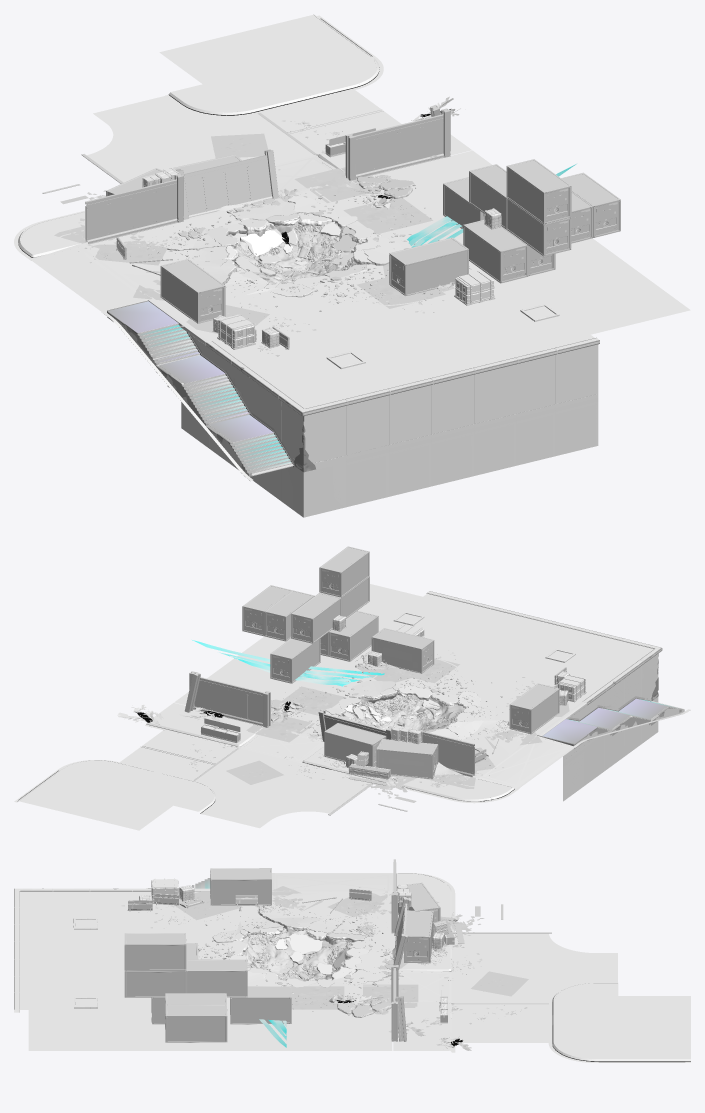
The model's file is cell_169_118.fbx.
The picture shows the model from 3 angles, top to bottom: view 1: azimuth 30°, elevation 25°; view 2: azimuth 150°, elevation 25°; view 3: azimuth 270°, elevation 25°; orthographic projection. The views are drawn at different scales.
Parts seen in each view (by area): view 1: SM_I_RoadFacility_Ground_C_02G.mo, SM_I_RoadFacility_Ground_C_02C.mo, SM_H_Fence_SoundproofWall_02.mo.093, SM_H_Fence_SoundproofWall_02.mo.104, SM_H_Fence_SoundproofWall_02.mo.094, SM_H_Industrial_Container_02.mo.220, SM_H_Industrial_Container_02.mo.230, SM_H_Industrial_Container_02.mo.200, SM_H_Industrial_Container_02.mo.229, SM_I_RoadFacility_Ground_C_02I.mo, SM_H_Industrial_Container_02.mo.222, SM_I_RoadFacility_Ground_C_02H.mo (+12 smaller); view 2: SM_I_RoadFacility_Ground_C_02G.mo, SM_I_RoadFacility_Ground_C_02C.mo, SM_H_Fence_SoundproofWall_02.mo.104, SM_H_Industrial_Container_02.mo.220, SM_H_Industrial_Container_02.mo.200, SM_H_Industrial_Container_02.mo.230, SM_H_Industrial_Container_02.mo.135, SM_H_Industrial_Container_02.mo.227, SM_H_Industrial_Container_02.mo.229, SM_H_Industrial_Container_02.mo.232, SM_H_Industrial_Container_02.mo.130, SpaceCenter_Long3_GenerateRoad_Sand_TireTracks_Narrow_Mesh_x (+14 smaller); view 3: SM_I_RoadFacility_Ground_C_02G.mo, SM_I_RoadFacility_Ground_C_02C.mo, SM_H_Industrial_Container_02.mo.225, SM_H_Industrial_Container_02.mo.220, SM_H_Industrial_Container_02.mo.232, SM_H_Industrial_Container_02.mo.227, SM_H_Industrial_Container_02.mo.200, SM_I_RoadFacility_Ground_C_02H.mo, SM_H_Industrial_Container_02.mo.130, SM_H_Industrial_Container_02.mo.222, SM_I_RoadFacility_Ground_C_02I.mo, SM_DECOR_GrassDebris_Less_01_HD.mo.1306 (+16 smaller).
Part boxes in pixels (x1,y1,x2,y2): SM_I_RoadFacility_Ground_C_02G.mo: (18, 14, 690, 517); SM_I_RoadFacility_Ground_C_02C.mo: (14, 15, 689, 480); SM_H_Fence_SoundproofWall_02.mo.093: (85, 173, 183, 244); SM_H_Fence_SoundproofWall_02.mo.104: (355, 108, 450, 178); SM_H_Fence_SoundproofWall_02.mo.094: (184, 149, 278, 217); SM_H_Industrial_Container_02.mo.220: (506, 159, 571, 224); SM_H_Industrial_Container_02.mo.230: (389, 237, 468, 296); SM_H_Industrial_Container_02.mo.200: (160, 259, 225, 323); SM_H_Industrial_Container_02.mo.229: (463, 219, 528, 283); SM_I_RoadFacility_Ground_C_02I.mo: (233, 221, 356, 281); SM_H_Industrial_Container_02.mo.222: (506, 198, 571, 256); SM_I_RoadFacility_Ground_C_02H.mo: (231, 223, 352, 284); SM_I_RoadFacility_Ground_C_02G.mo: (17, 584, 690, 830); SM_I_RoadFacility_Ground_C_02C.mo: (14, 584, 690, 827); SM_H_Fence_SoundproofWall_02.mo.104: (189, 671, 263, 726); SM_H_Industrial_Container_02.mo.220: (319, 546, 369, 597); SM_H_Industrial_Container_02.mo.200: (509, 683, 559, 734); SM_H_Industrial_Container_02.mo.230: (371, 628, 434, 673); SM_H_Industrial_Container_02.mo.135: (376, 739, 438, 779); SM_H_Industrial_Container_02.mo.227: (291, 592, 341, 643); SM_H_Industrial_Container_02.mo.229: (328, 611, 378, 661); SM_H_Industrial_Container_02.mo.232: (270, 638, 320, 683); SM_H_Industrial_Container_02.mo.130: (324, 723, 386, 767); SpaceCenter_Long3_GenerateRoad_Sand_TireTracks_Narrow_Mesh_x: (192, 640, 384, 686); SM_I_RoadFacility_Ground_C_02G.mo: (14, 873, 690, 1061); SM_I_RoadFacility_Ground_C_02C.mo: (14, 873, 690, 1062); SM_H_Industrial_Container_02.mo.225: (165, 1004, 227, 1042); SM_H_Industrial_Container_02.mo.220: (124, 933, 186, 971); SM_H_Industrial_Container_02.mo.232: (230, 986, 291, 1024); SM_H_Industrial_Container_02.mo.227: (186, 959, 247, 997); SM_H_Industrial_Container_02.mo.200: (210, 868, 271, 905); SM_I_RoadFacility_Ground_C_02H.mo: (243, 930, 349, 980); SM_H_Industrial_Container_02.mo.130: (404, 910, 433, 963); SM_H_Industrial_Container_02.mo.222: (124, 971, 186, 997); SM_I_RoadFacility_Ground_C_02I.mo: (243, 933, 347, 980); SM_DECOR_GrassDebris_Less_01_HD.mo.1306: (471, 971, 528, 996).
Size of the model in its own units: 50.43 by 20.26 by 73.32.
